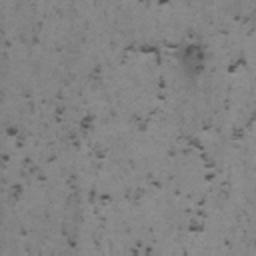Oxide scale of temperature system: (0, 0, 256, 256), (3, 33, 41, 47), (91, 65, 102, 74)
